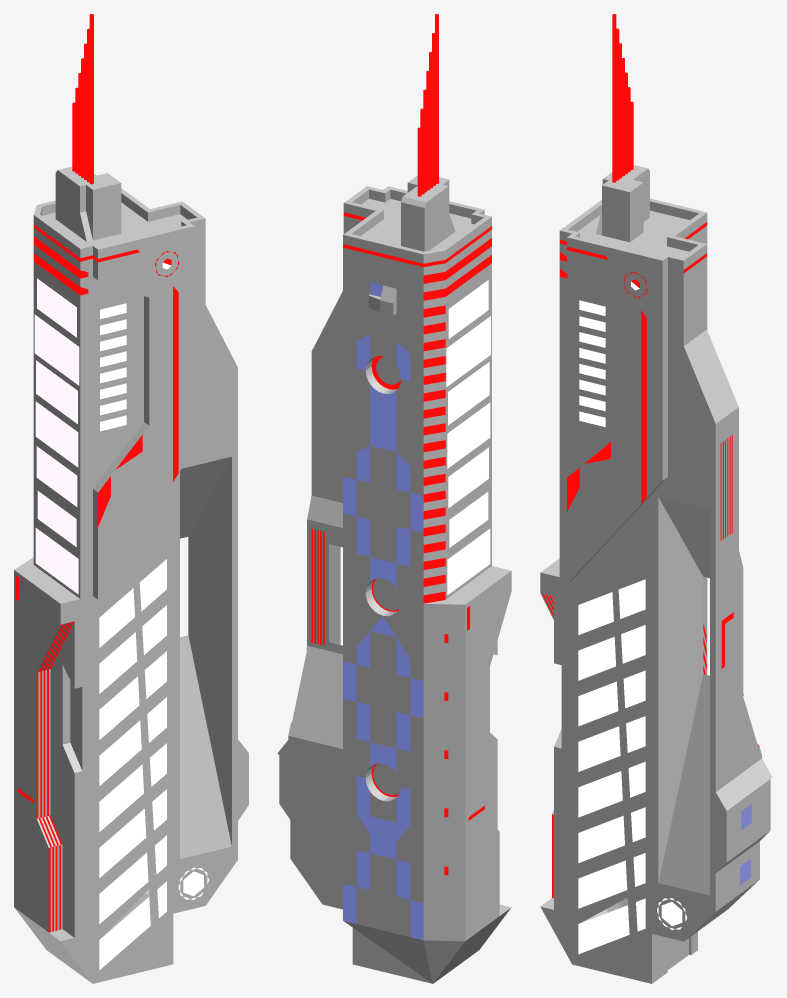
Rendered from g1_cyberpunk_building.glb.
3 renders of one model, left to right at view 1: azimuth 30°, elevation 25°; view 2: azimuth 150°, elevation 25°; view 3: azimuth 330°, elevation 25°, orthographic.
Parts seen in each view (by area): view 1: Object_5, Object_4, Object_2; view 2: Object_5, Object_3, Object_2, Object_4; view 3: Object_5, Object_4, Object_2.
Boxes of the visible parts, x1=… form: Object_5: x1=14, y1=166, x2=248, y2=983; Object_4: x1=34, y1=262, x2=208, y2=970; Object_2: x1=16, y1=14, x2=179, y2=932; Object_5: x1=277, y1=175, x2=511, y2=983; Object_3: x1=343, y1=282, x2=423, y2=940; Object_2: x1=311, y1=14, x2=491, y2=875; Object_4: x1=446, y1=280, x2=490, y2=594; Object_5: x1=540, y1=165, x2=772, y2=983; Object_4: x1=578, y1=281, x2=686, y2=954; Object_2: x1=542, y1=14, x2=758, y2=898.
Size of the model in its own units: 11.68 by 56.21 by 6.95.
